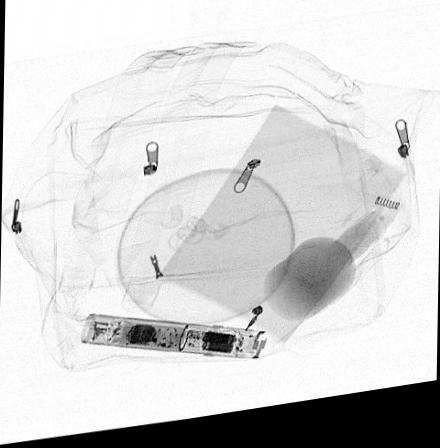Baton: (79, 315, 268, 367)
